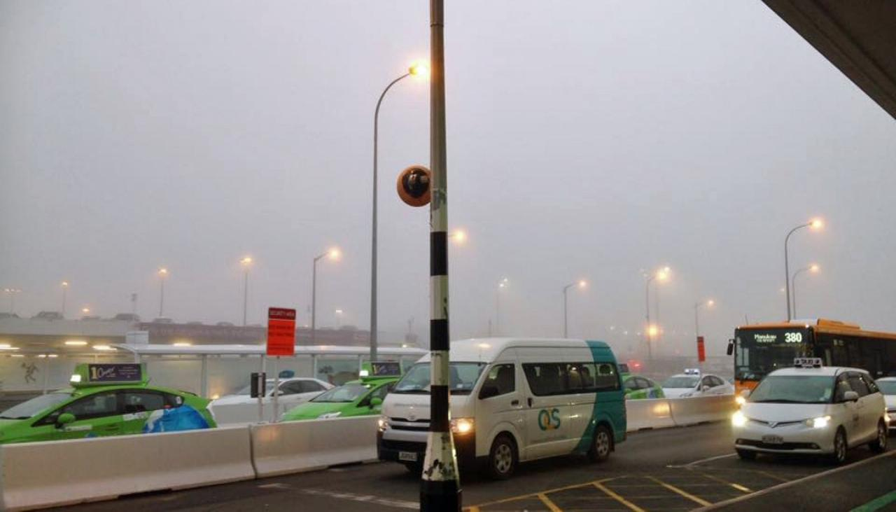bus: (724, 316, 896, 425)
car: (371, 335, 629, 482), (1, 360, 222, 467), (729, 356, 891, 465), (274, 359, 425, 448), (203, 369, 347, 437), (656, 366, 736, 414), (595, 374, 666, 419), (860, 376, 896, 437)
